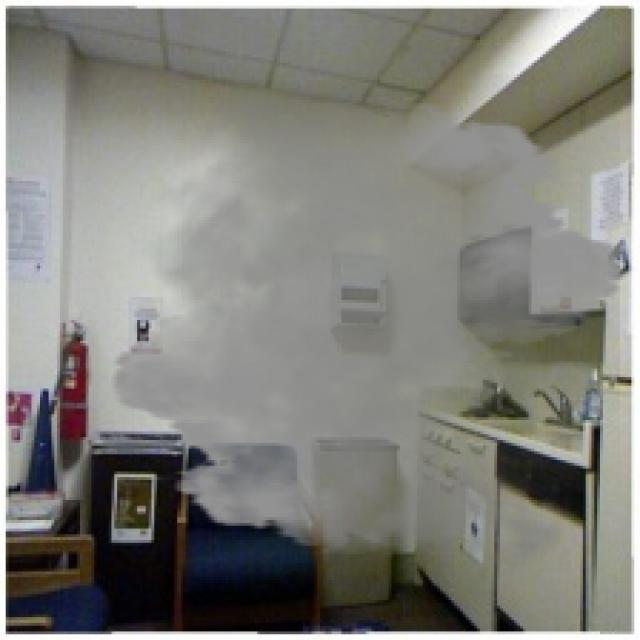Smoke: (94, 74, 637, 592)
